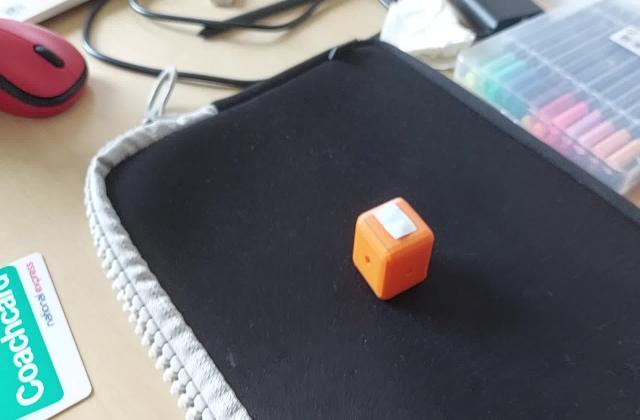sticker: (350, 196, 436, 302)
white: (377, 212, 419, 242)
